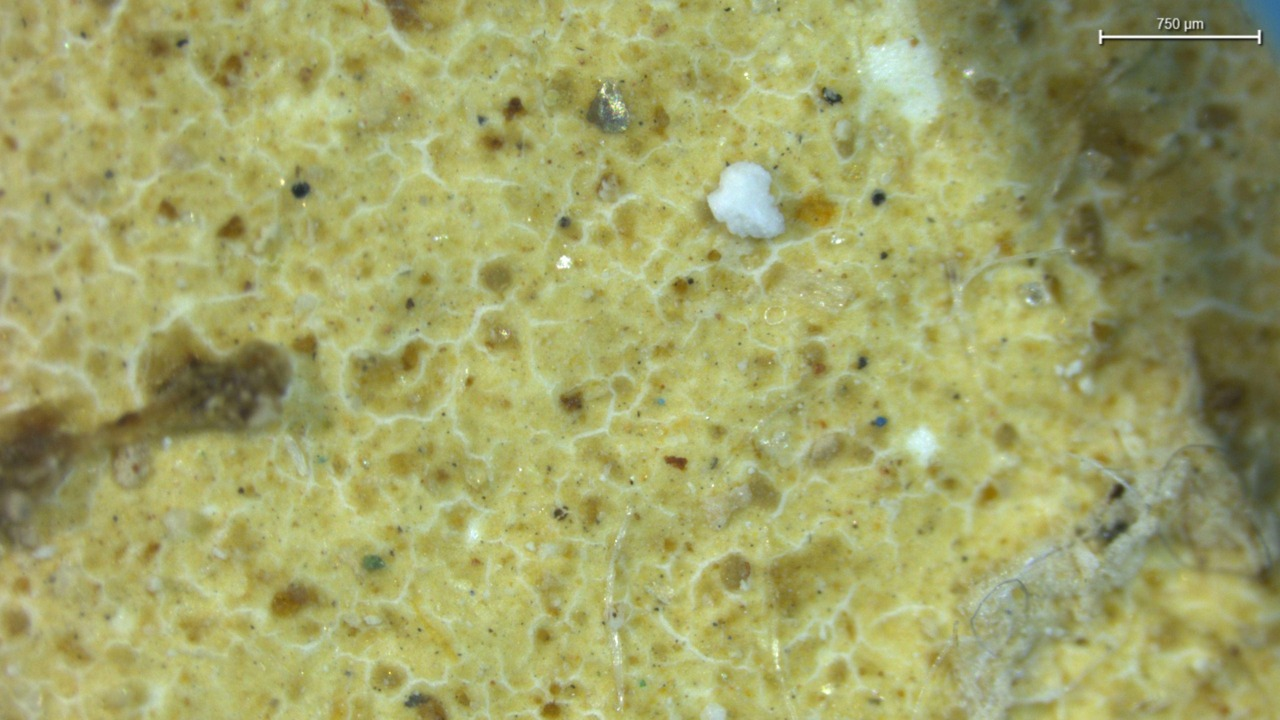microplastic_fragment: (708, 162, 784, 238), (586, 80, 630, 133)
